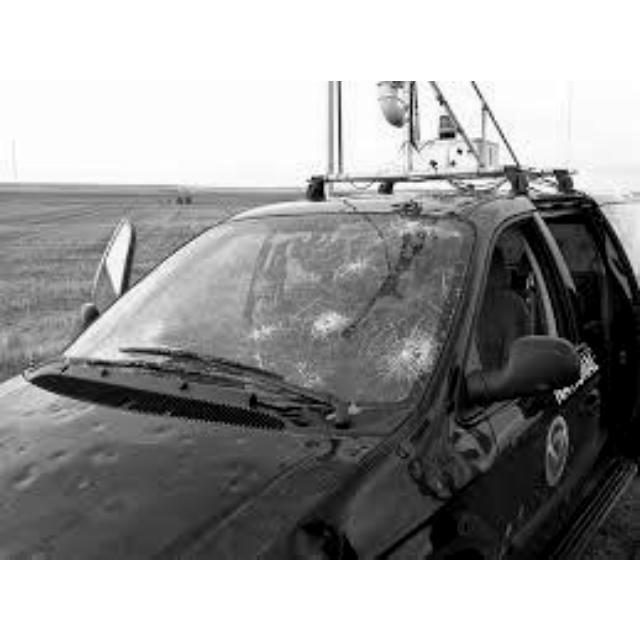Front-windscreen-damage: (174, 211, 435, 383)
bonnet-dent: (5, 377, 271, 542)
doorouter-dent: (473, 219, 576, 557)
fender-dent: (312, 441, 455, 557)
